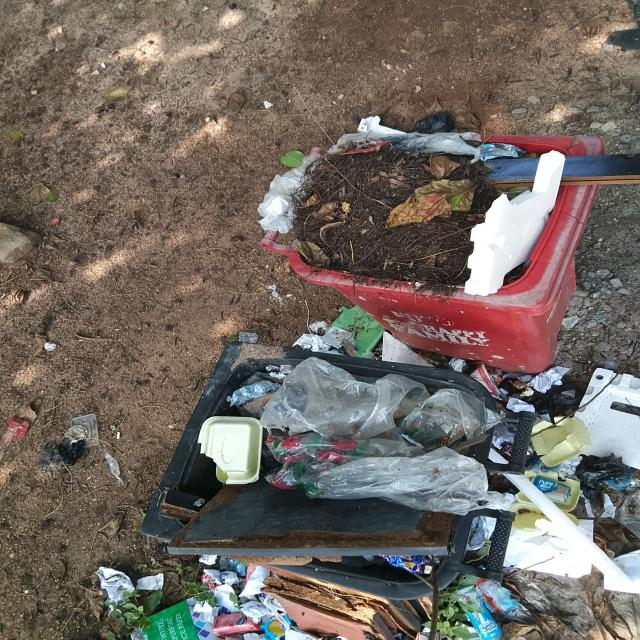overflowing: (285, 118, 593, 316)
